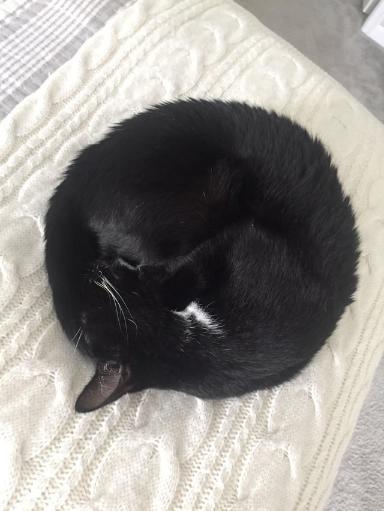cat_sleeping: (45, 99, 359, 413)
